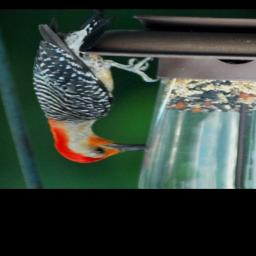Woodpecker: (25, 13, 161, 164)
